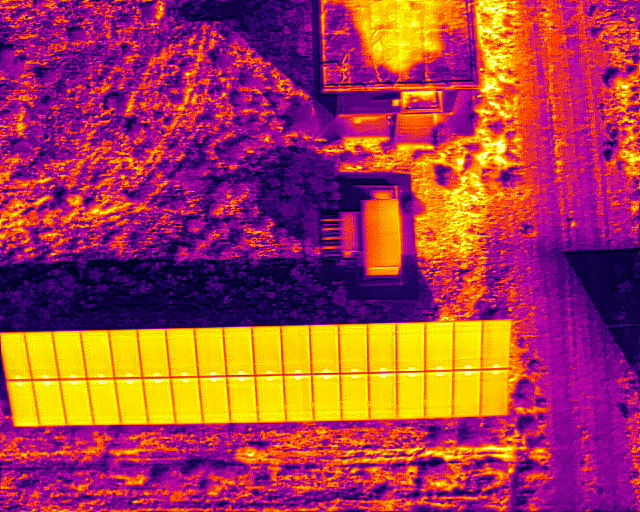photovoltaic_panels: (1, 318, 510, 427)
